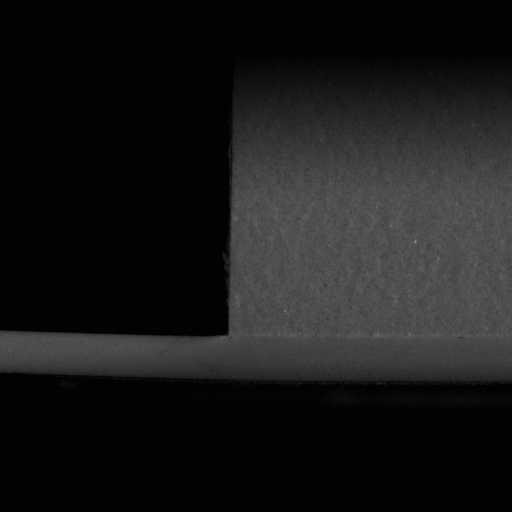changdai: (0, 332, 228, 380)
